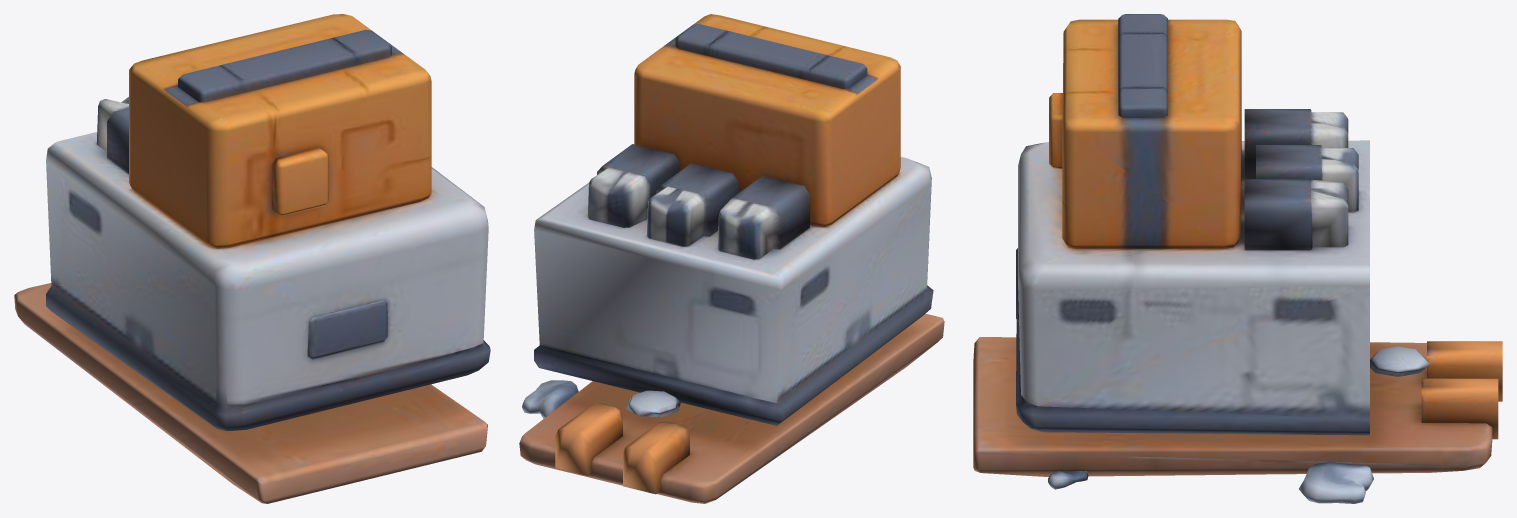
Rendered from sled.glb.
3 views of the same model, side by side, from view 1: azimuth 30°, elevation 25°; view 2: azimuth 150°, elevation 25°; view 3: azimuth 270°, elevation 25° (orthographic). The views are drawn at different scales.
Parts seen in each view (by area): view 1: tripo_node_a834cc5b-f4ce-4cf5-bf3f-fe1dca3abfae; view 2: tripo_node_a834cc5b-f4ce-4cf5-bf3f-fe1dca3abfae; view 3: tripo_node_a834cc5b-f4ce-4cf5-bf3f-fe1dca3abfae.
Part boxes in pixels (x1,y1,x2,y2): tripo_node_a834cc5b-f4ce-4cf5-bf3f-fe1dca3abfae: (14,14,490,503); tripo_node_a834cc5b-f4ce-4cf5-bf3f-fe1dca3abfae: (519,14,944,503); tripo_node_a834cc5b-f4ce-4cf5-bf3f-fe1dca3abfae: (973,14,1502,503).
Bounding box in the file's own units: 0.6465 × 0.7598 × 0.998.
Materials: 1 (1 with a texture image).
